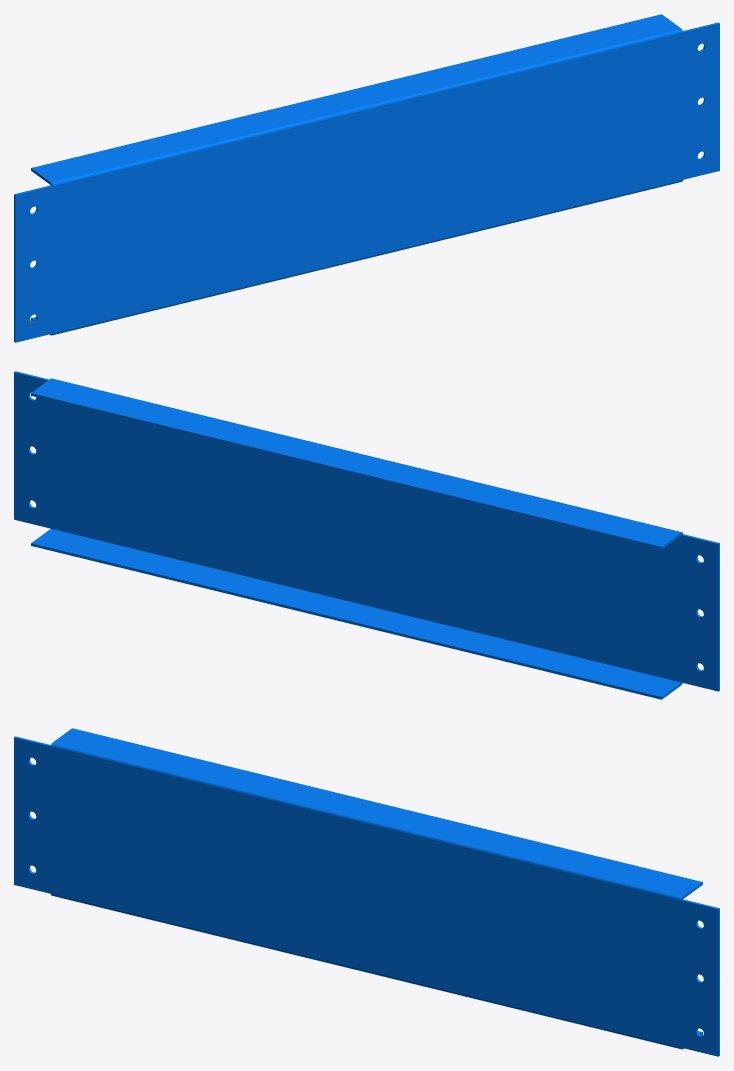
Rendered from rambler_Chasis_vis_15.dae.
3 views of the same model, one above another, from view 1: azimuth 30°, elevation 25°; view 2: azimuth 150°, elevation 25°; view 3: azimuth 330°, elevation 25° (orthographic).
Parts seen in each view (by area): view 1: Node_0x7fe0fc4d5380; view 2: Node_0x7fe0fc4d5380; view 3: Node_0x7fe0fc4d5380.
Boxes of the visible parts, box(x1,y1,x2,y2) form: Node_0x7fe0fc4d5380: box(14, 14, 719, 342); Node_0x7fe0fc4d5380: box(14, 371, 719, 699); Node_0x7fe0fc4d5380: box(14, 728, 719, 1056).
Size of the model in its own units: 0.8203 by 0.17 by 0.043.
